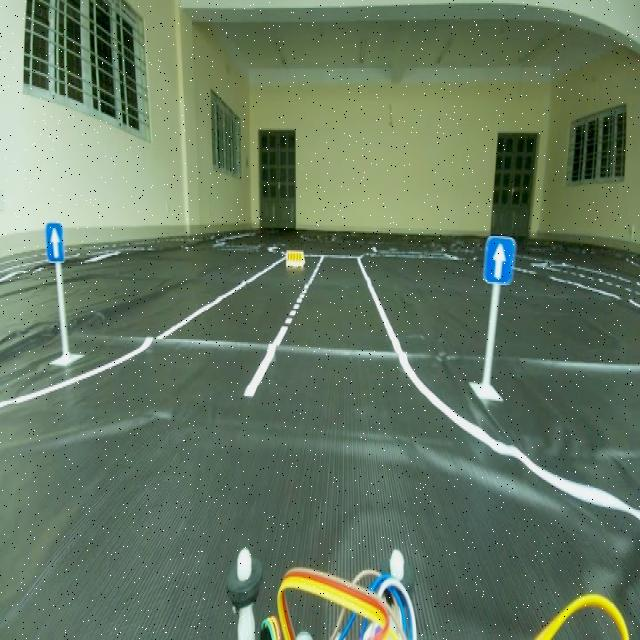onewayroad: (482, 231, 514, 289), (41, 217, 72, 263)
roadblock: (282, 249, 306, 263)
